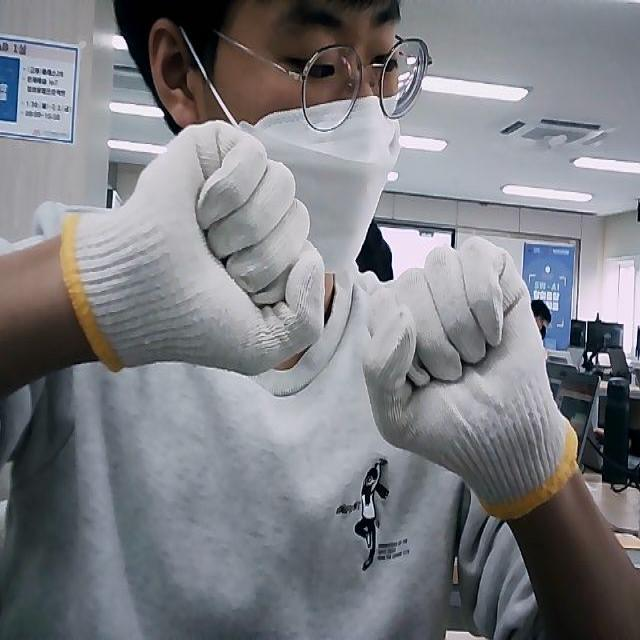gloves: (61, 120, 324, 376), (364, 237, 582, 518)
